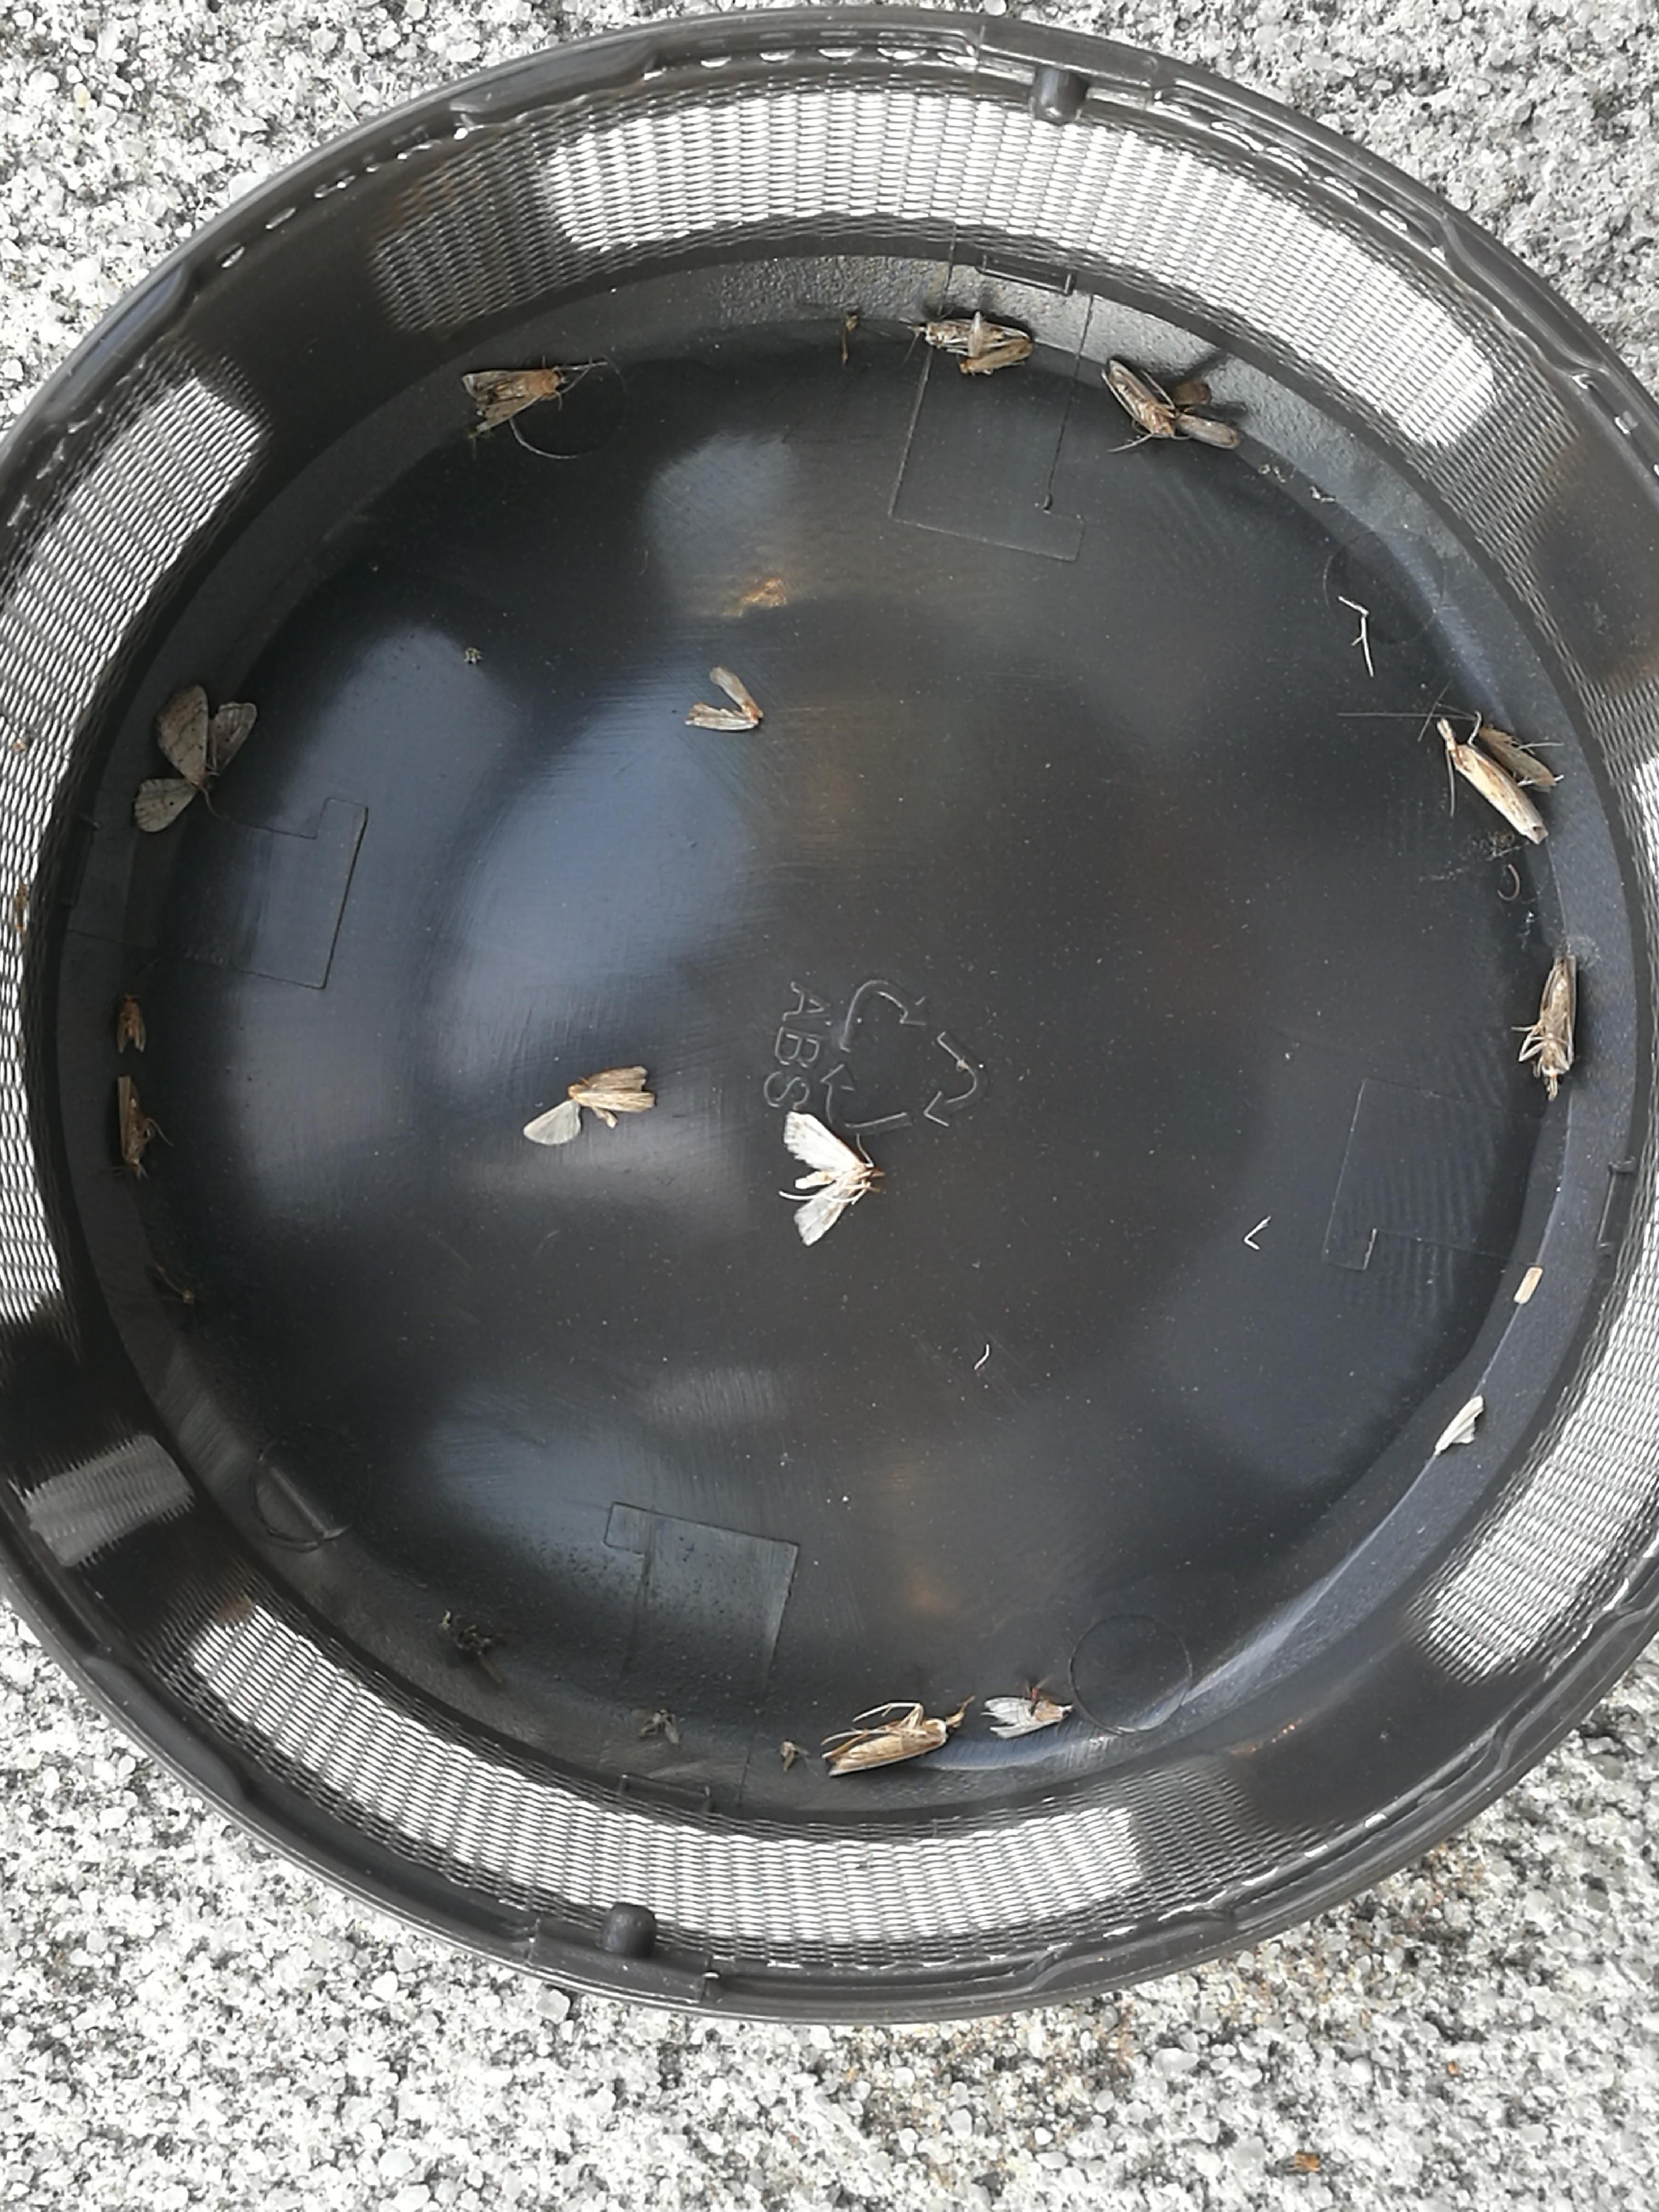mosquito: (1452, 747, 1546, 841), (824, 1717, 953, 1775), (1534, 951, 1579, 1085), (1103, 361, 1175, 437), (1480, 723, 1556, 791), (922, 320, 1033, 354), (117, 1075, 145, 1165), (962, 341, 1032, 373), (1175, 415, 1237, 448), (119, 996, 145, 1054)
moth: (136, 686, 256, 831), (784, 1111, 868, 1244), (525, 1066, 655, 1146), (464, 369, 561, 432), (986, 1696, 1068, 1737)
